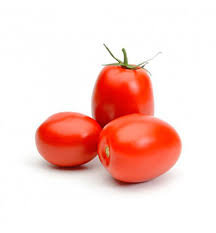tomato: (101, 119, 184, 182), (78, 52, 156, 116), (35, 109, 107, 166)
